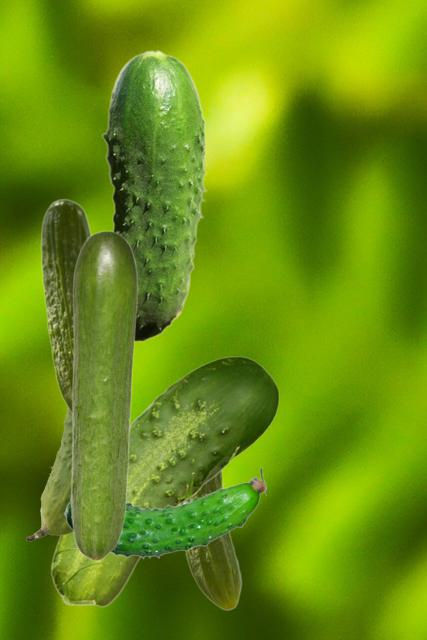cucumber: (50, 356, 278, 606), (101, 49, 207, 341), (70, 230, 137, 560), (63, 467, 265, 558), (40, 198, 91, 414), (185, 472, 241, 610), (26, 409, 72, 540)
